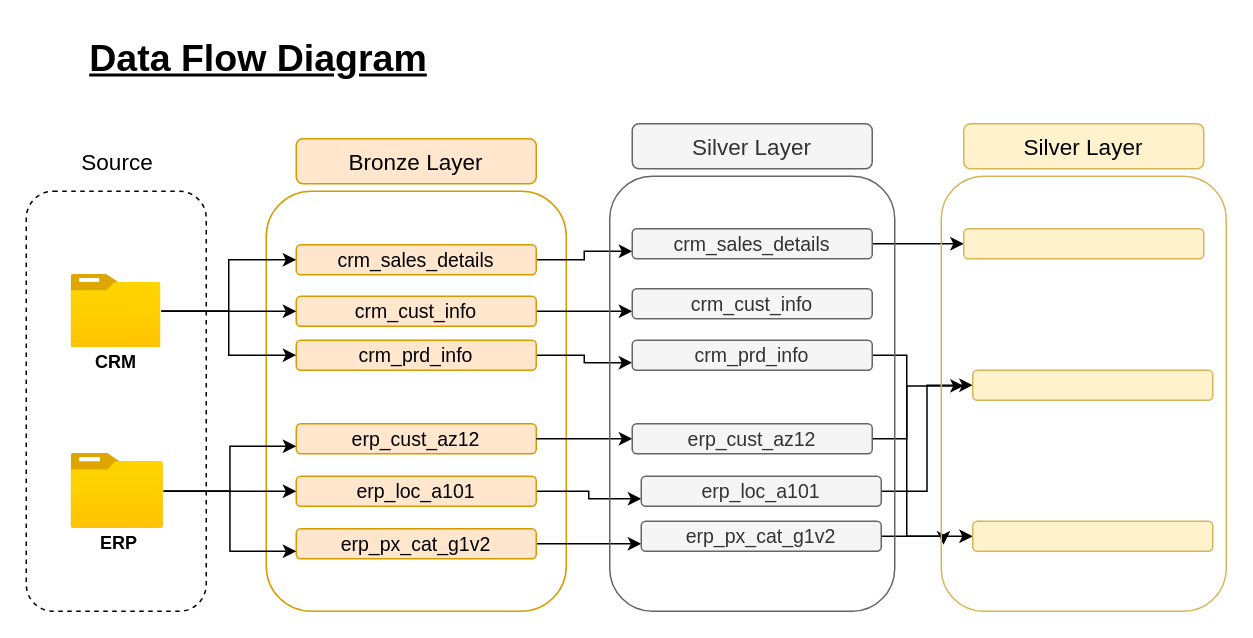
This 1253x638 diagram has some shape labels left out. Here are the shapes that lost their labels. From the top down, the centre of each, then its label:
[1083,243]: fact_sales
[1092,384]: dim_customers
[1092,535]: dim_products
